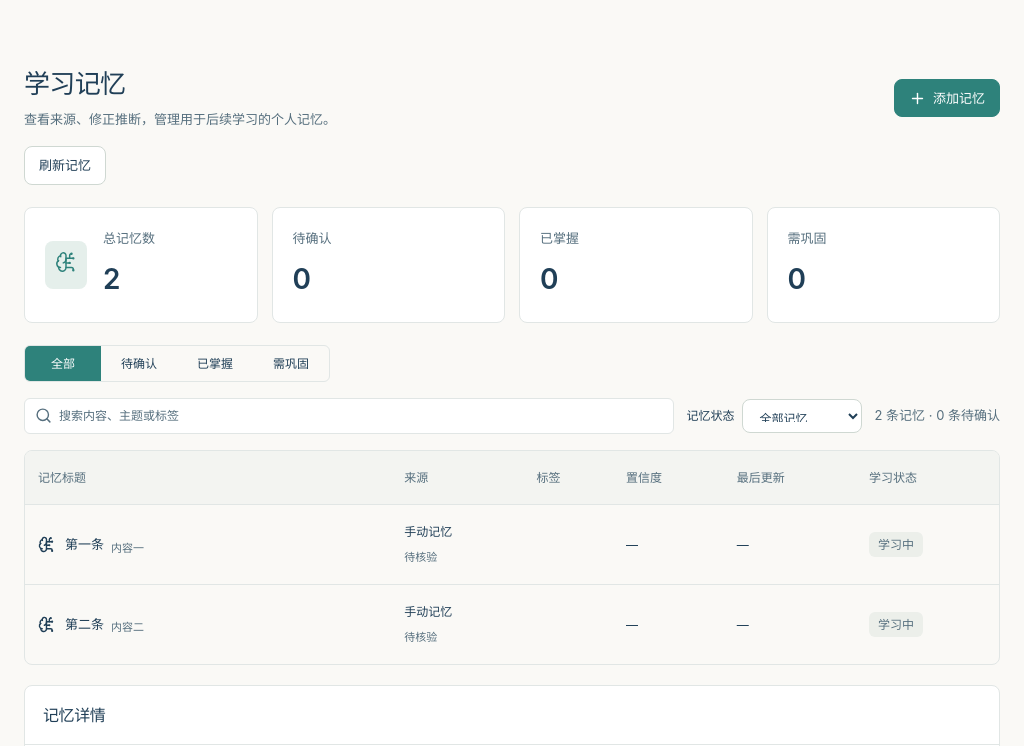
Scenario: version failure is distinct from no history, retries locally and ignores a previous selection late response
Click the button "第一条 内容一": point(91, 544) top-left (38, 525), bottom-right (144, 563)
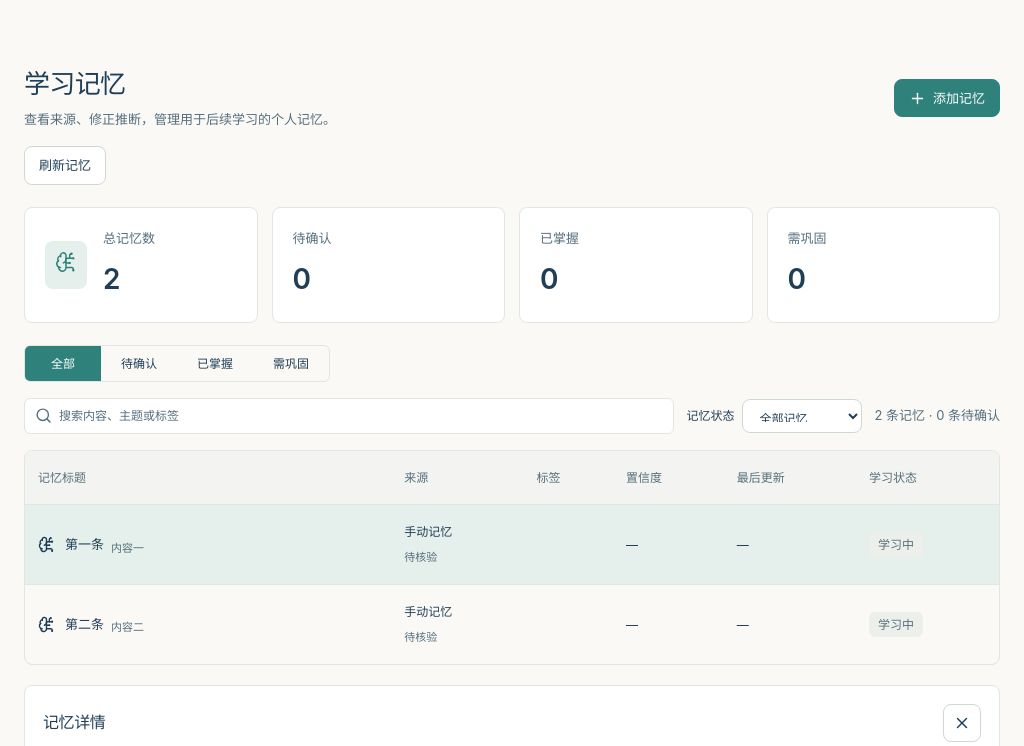
Click the button "第二条 内容二": point(91, 624) top-left (38, 605), bottom-right (144, 643)
(page scrolled)
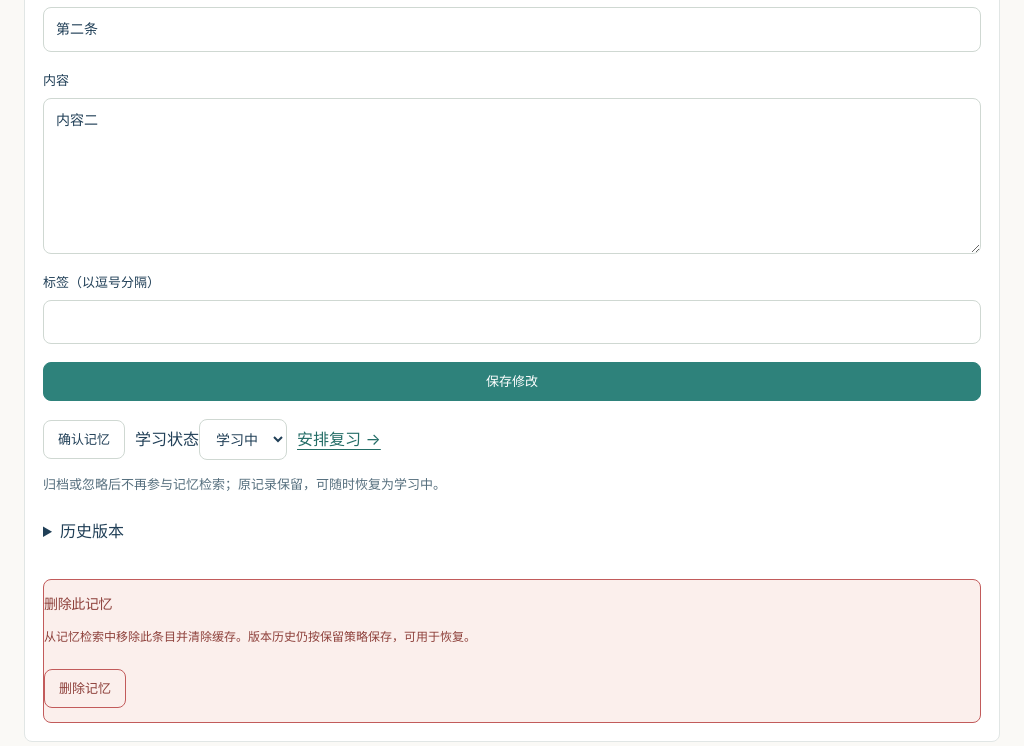
Click the heading "历史版本": point(92, 531) top-left (60, 521), bottom-right (124, 541)
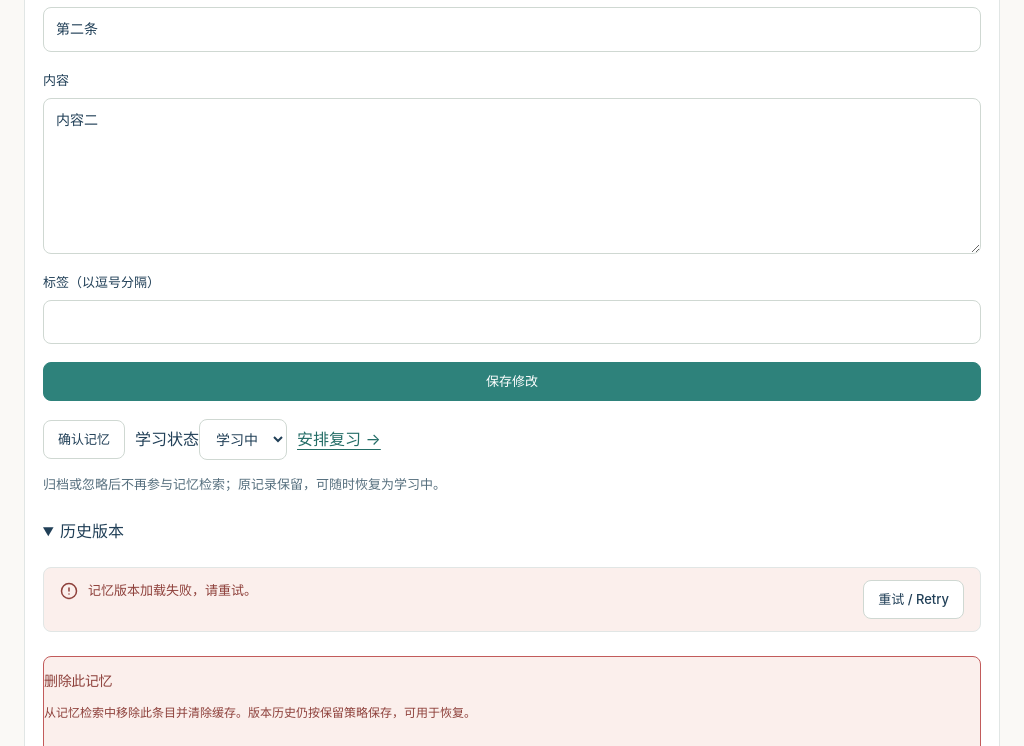
Expected: the text "暂无历史版本。" is not shown
Expected: the heading "历史版本" is shown, top-left (60, 521), bottom-right (124, 541)
Expected: the text "记忆版本加载失败，请重试。" is shown, top-left (88, 582), bottom-right (257, 598)
Click the button "重试 / Retry": point(914, 599) top-left (863, 580), bottom-right (964, 619)
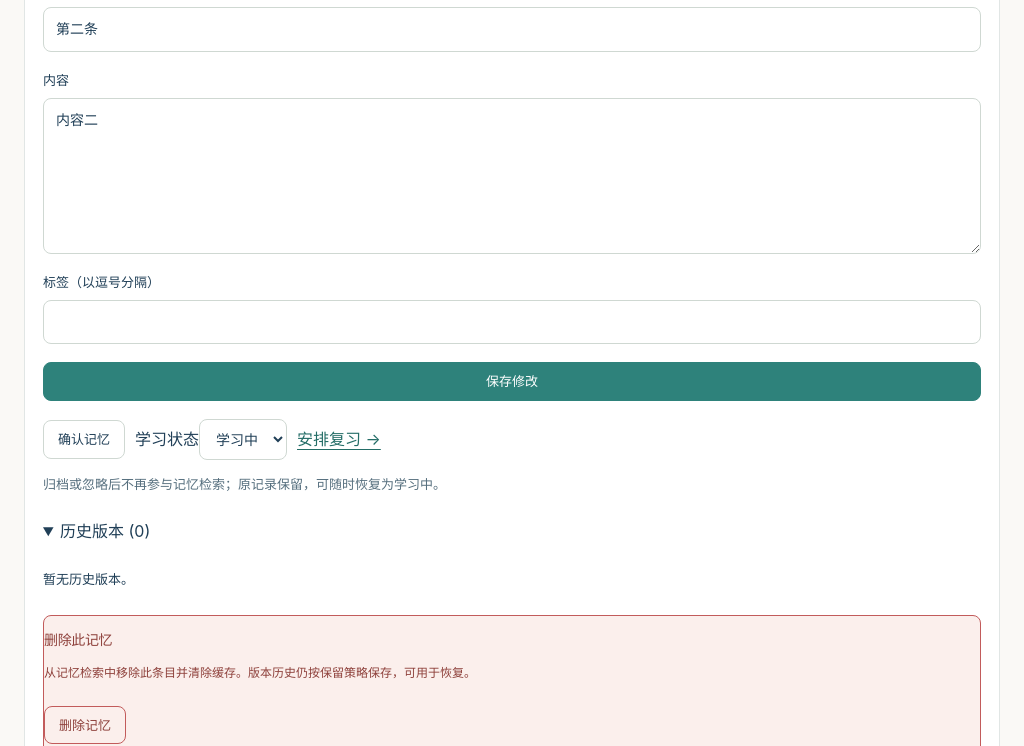
Expected: the text "暂无历史版本。" is shown, top-left (43, 571), bottom-right (134, 587)
